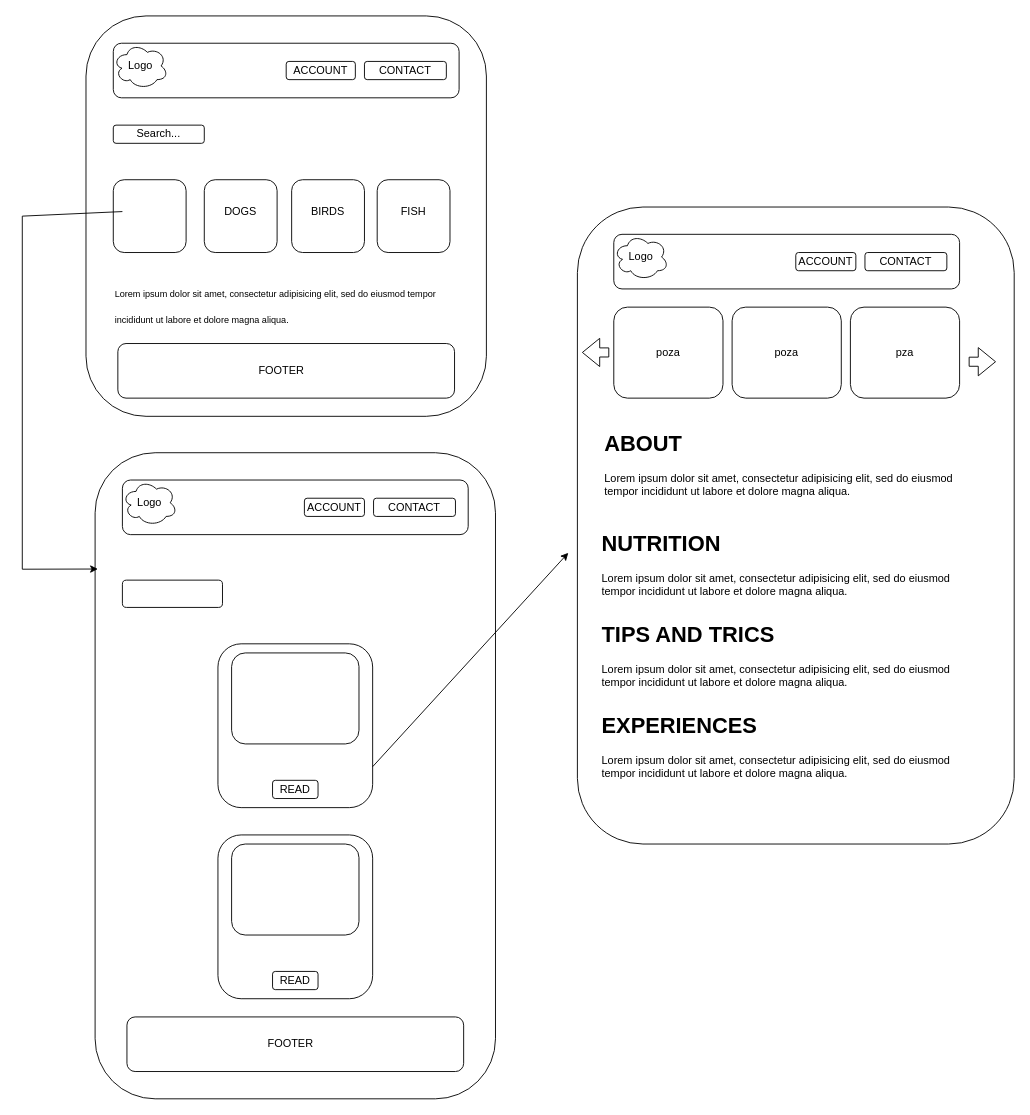
This 1030x1115 diagram has some shape labels left out. Each missing label, with the centre of its shape:
"CATS" belongs at (149,216).
"FILTER" belongs at (171,593).
